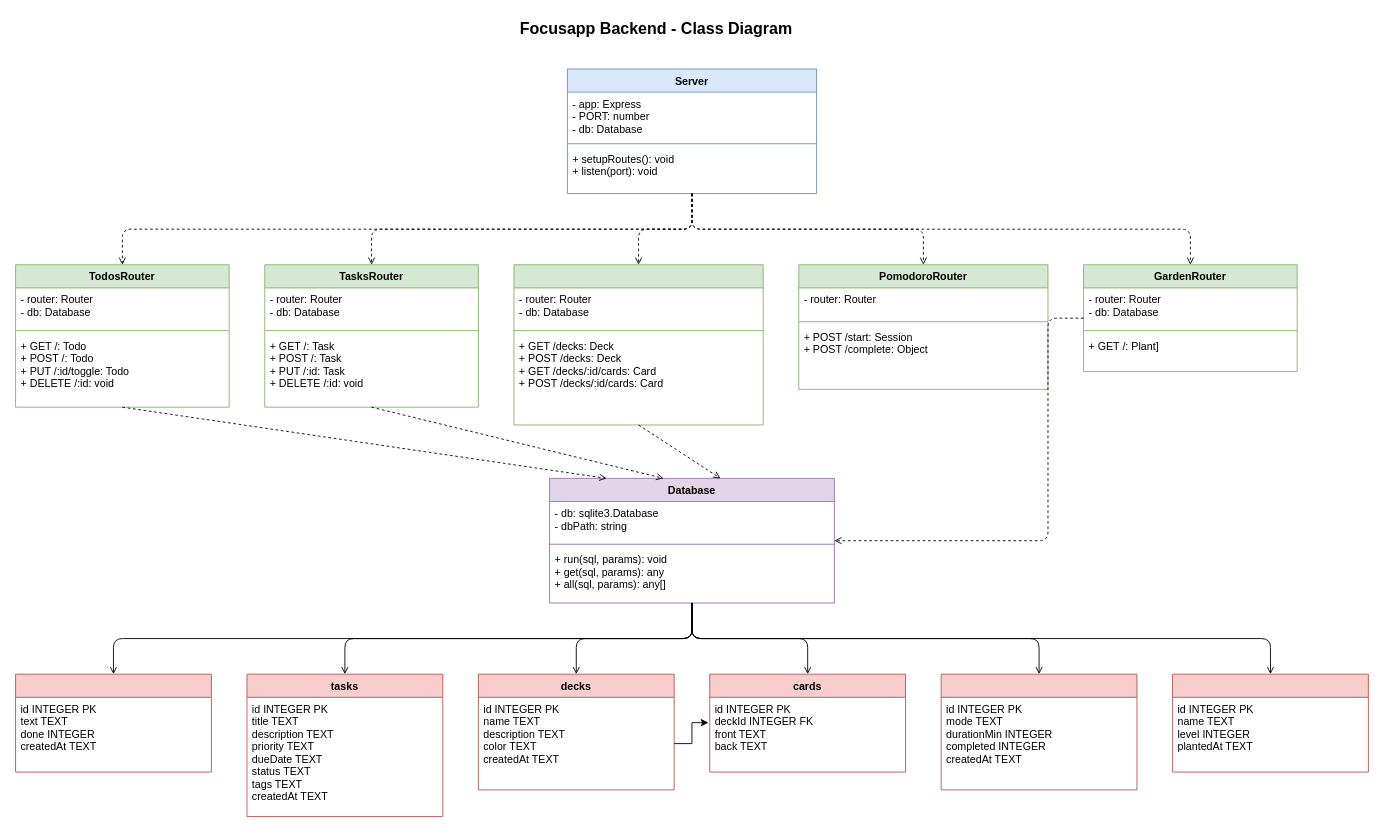
This 1384x834 diagram has some shape labels left out. The box of each missing label's shape, as (x1, y1, x2, y2) in pixels:
FlashcardsRouter: (513, 264, 763, 425)
garden_plants: (1172, 673, 1368, 772)
pomodoro_sessions: (940, 673, 1137, 790)
todos: (15, 673, 211, 772)
